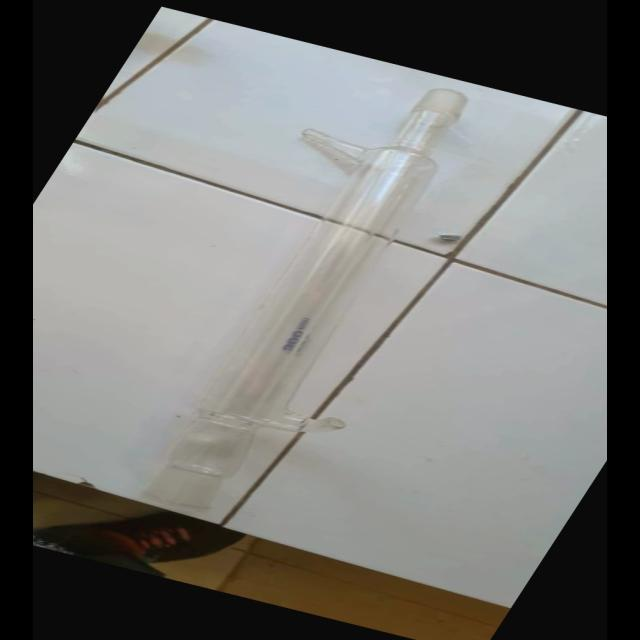Distillation: (48, 56, 566, 544)
